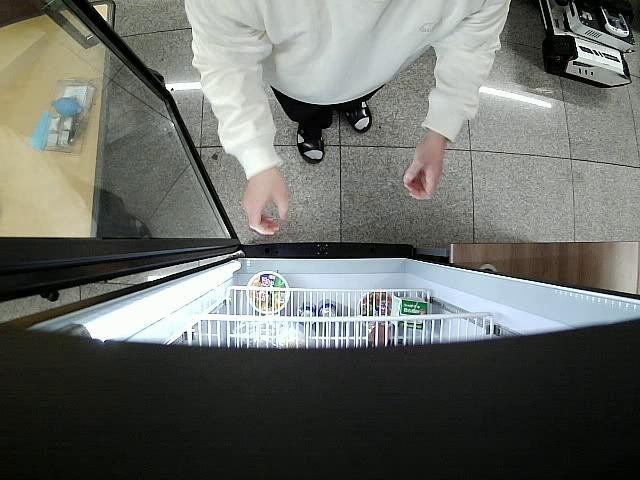00_hand: (242, 173, 291, 238), (402, 143, 445, 201)
